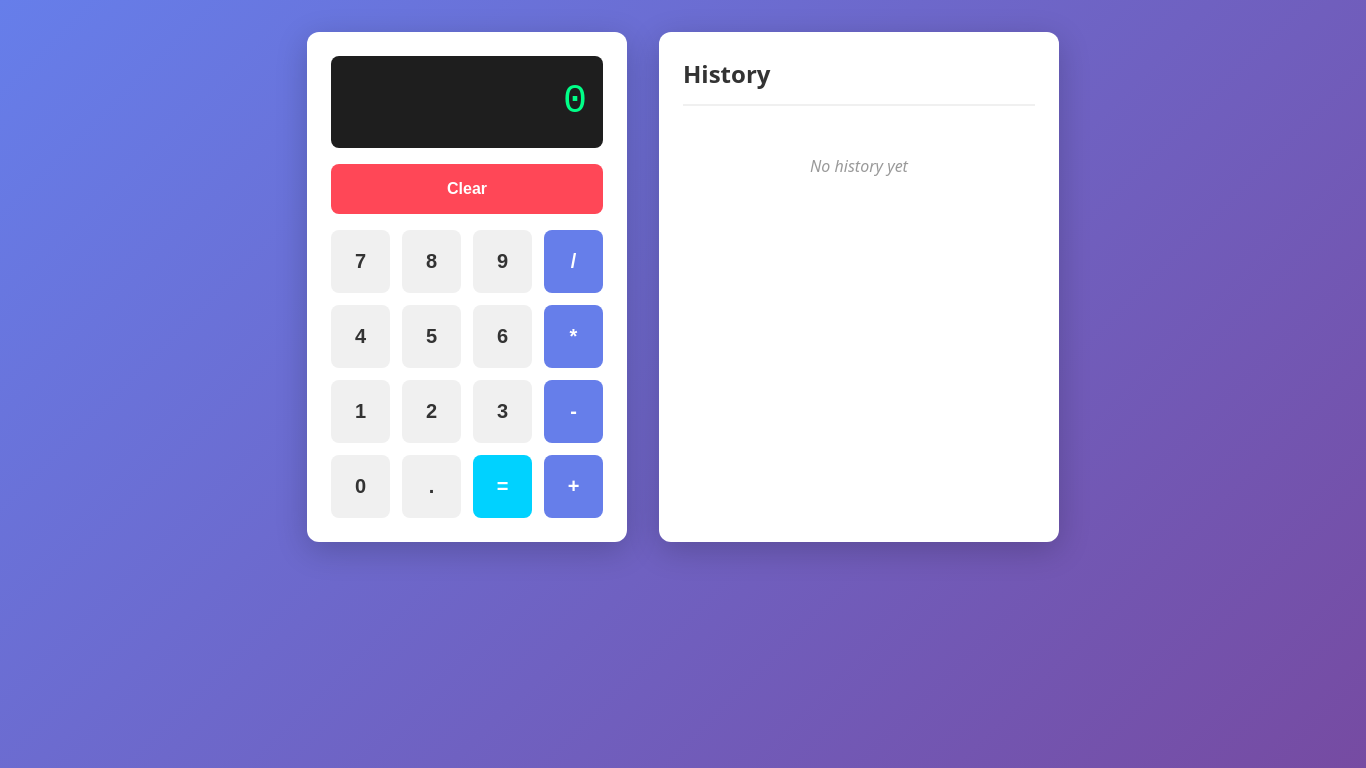
it: Calculator Component › Number input › should display multiple digits when clicked
Click the button with test id "btn-1": (360, 412) [331,380,390,443]
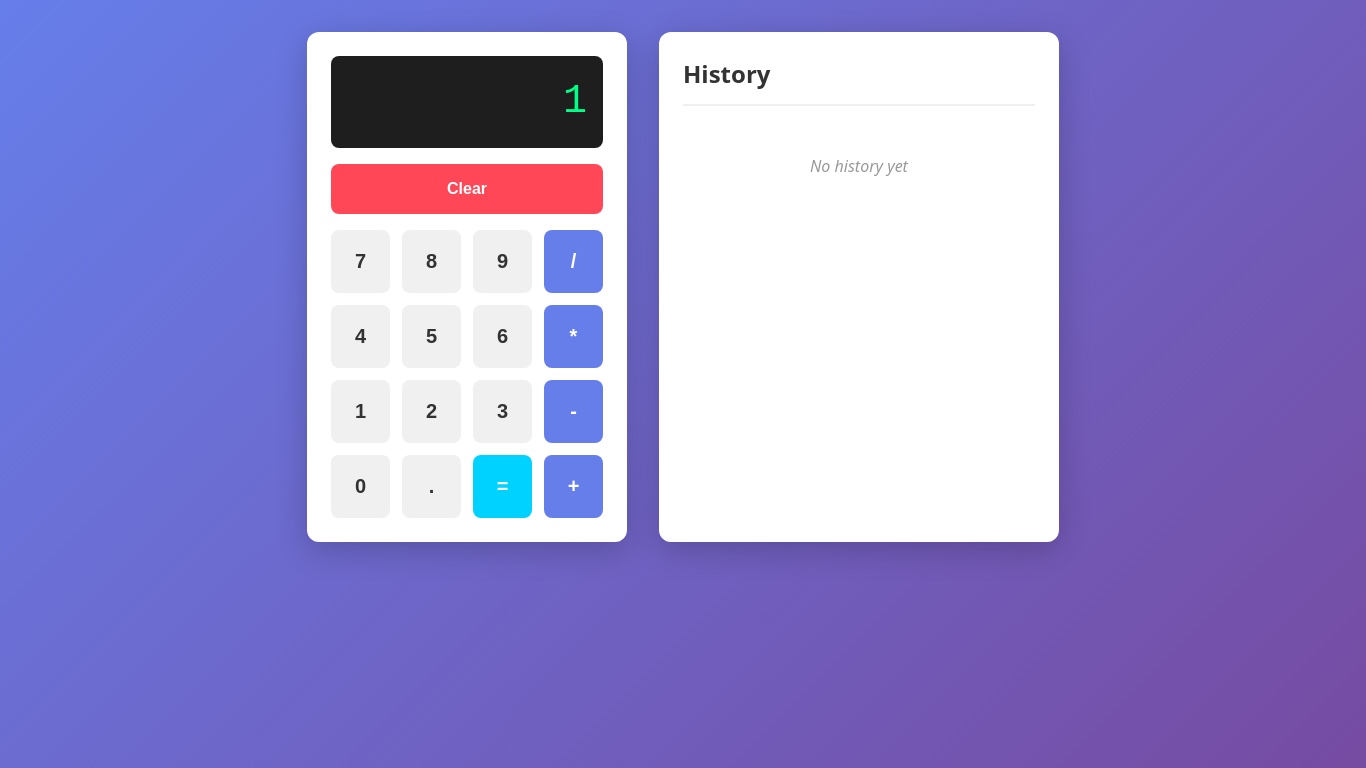
Click the button with test id "btn-2": (432, 412) [402,380,461,443]
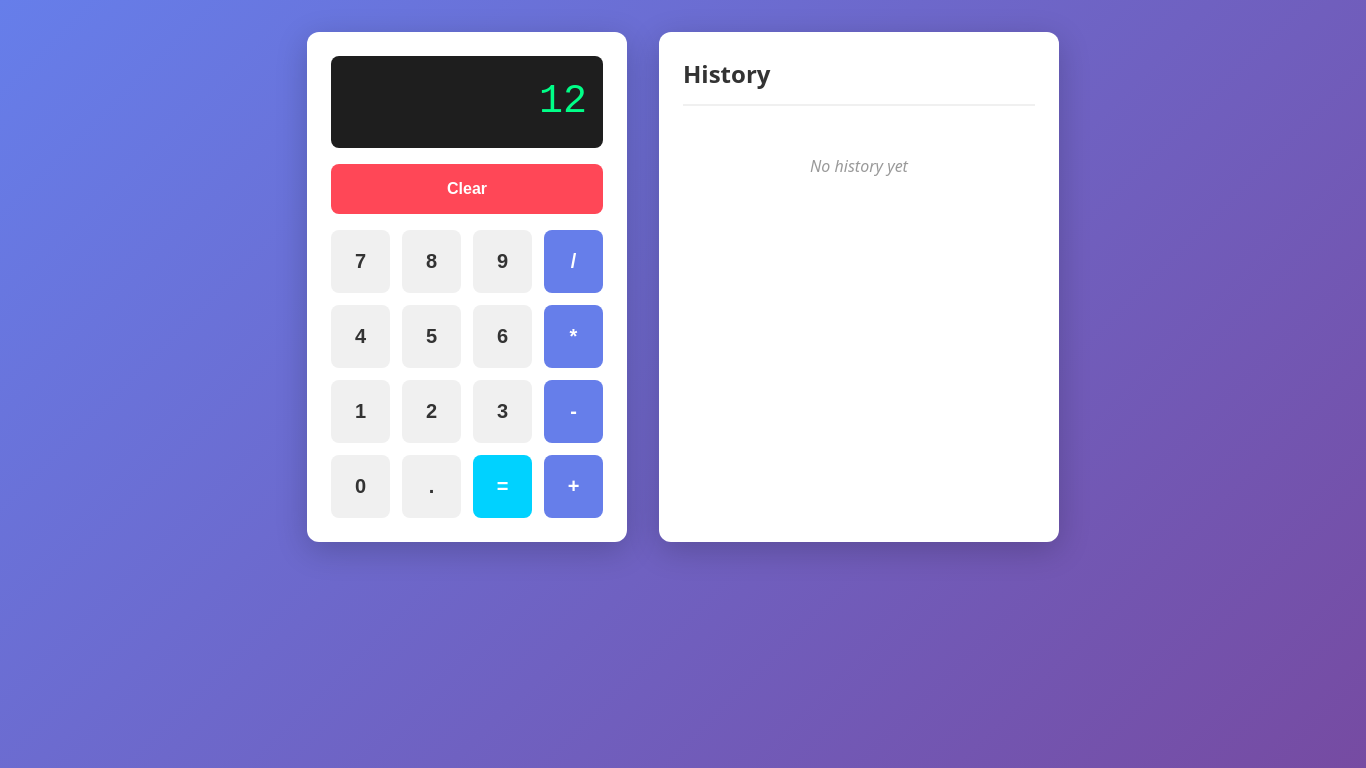
Click the button with test id "btn-3": (502, 412) [473,380,532,443]
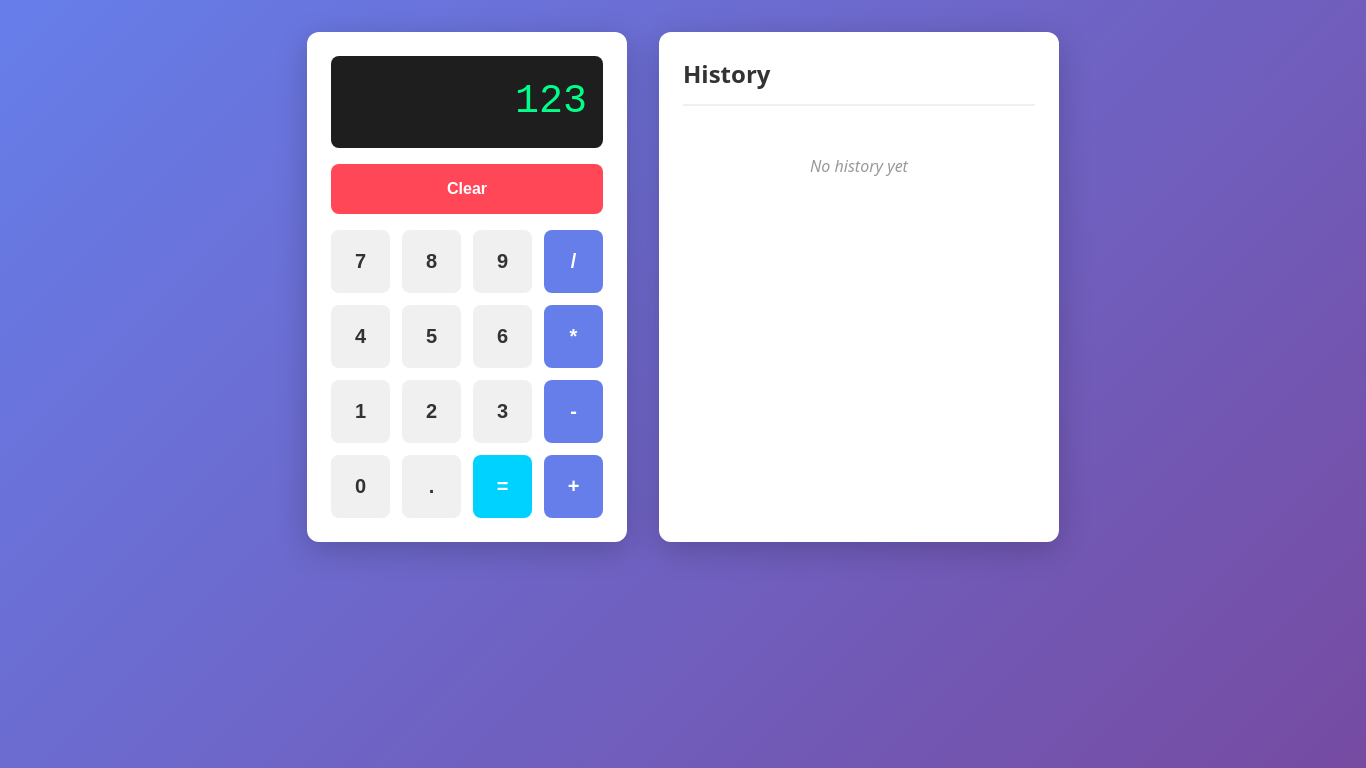
Expected: the text with test id "display" reads "123", [515,79,587,124]
